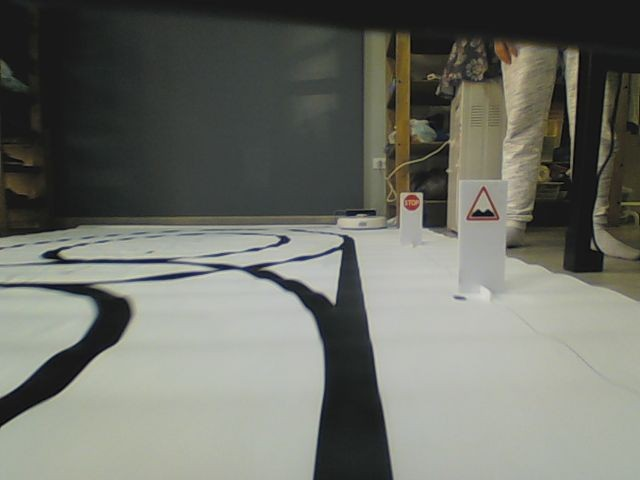Nerov: (464, 184, 500, 222)
Stop: (403, 194, 420, 211)
